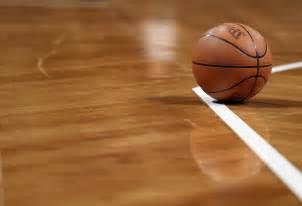basketball: (190, 20, 274, 103)
